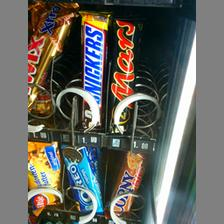Schokolade: (76, 10, 108, 130), (107, 14, 136, 134), (107, 148, 147, 220), (60, 143, 100, 211), (28, 140, 60, 212)
